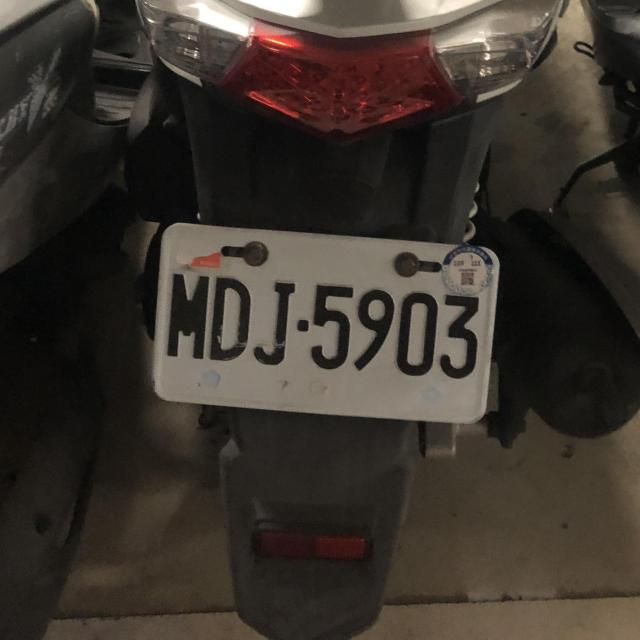W: (141, 217, 508, 425)
